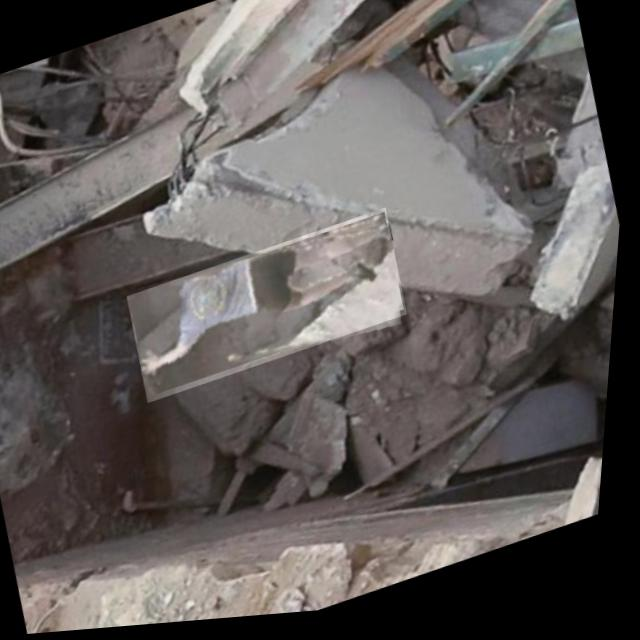Person in Rubble: (124, 212, 419, 408)
